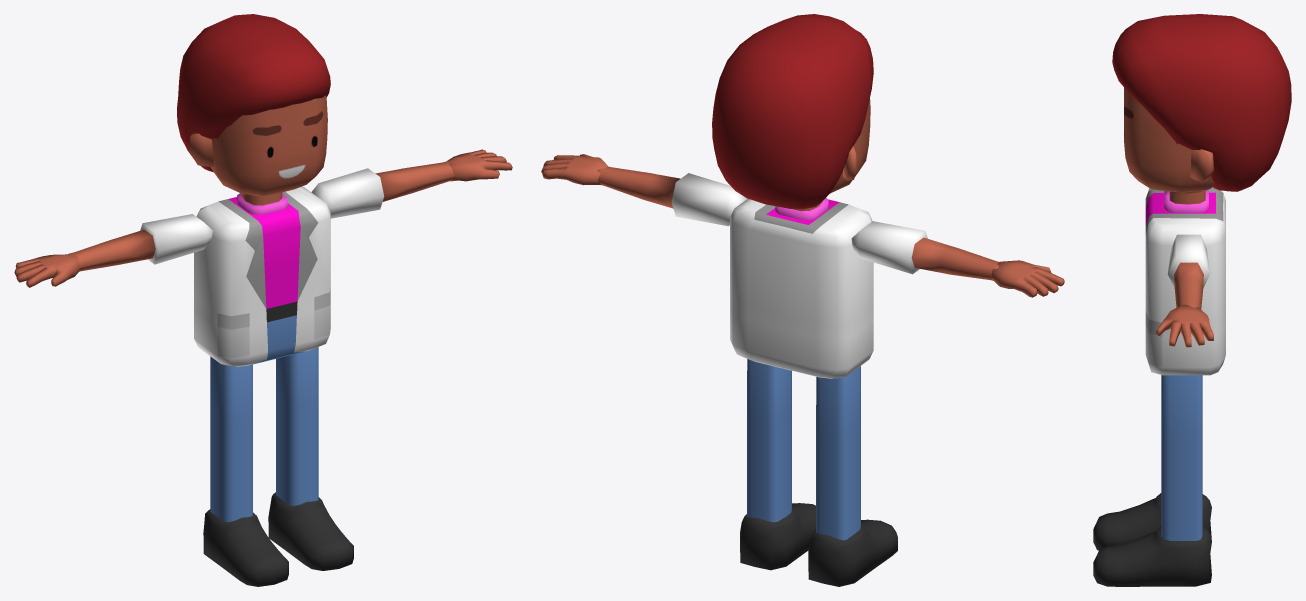
Rendered from NPC_Black02_RedHair04.gltf.
3 renders of one model, left to right at view 1: azimuth 30°, elevation 25°; view 2: azimuth 150°, elevation 25°; view 3: azimuth 270°, elevation 25°, orthographic. The views are drawn at different scales.
Visible parts, largest first — view 1: NPC_Corpo_Black2_RedHair.004; view 2: NPC_Corpo_Black2_RedHair.004; view 3: NPC_Corpo_Black2_RedHair.004.
Boxes of the visible parts, bbox=[...] form: NPC_Corpo_Black2_RedHair.004: bbox=[14, 14, 512, 586]; NPC_Corpo_Black2_RedHair.004: bbox=[541, 14, 1064, 586]; NPC_Corpo_Black2_RedHair.004: bbox=[1093, 14, 1291, 586].
Bounding box in the file's own units: 2.31 × 2.3 × 0.7742.
Materials: 1 (1 with a texture image).
